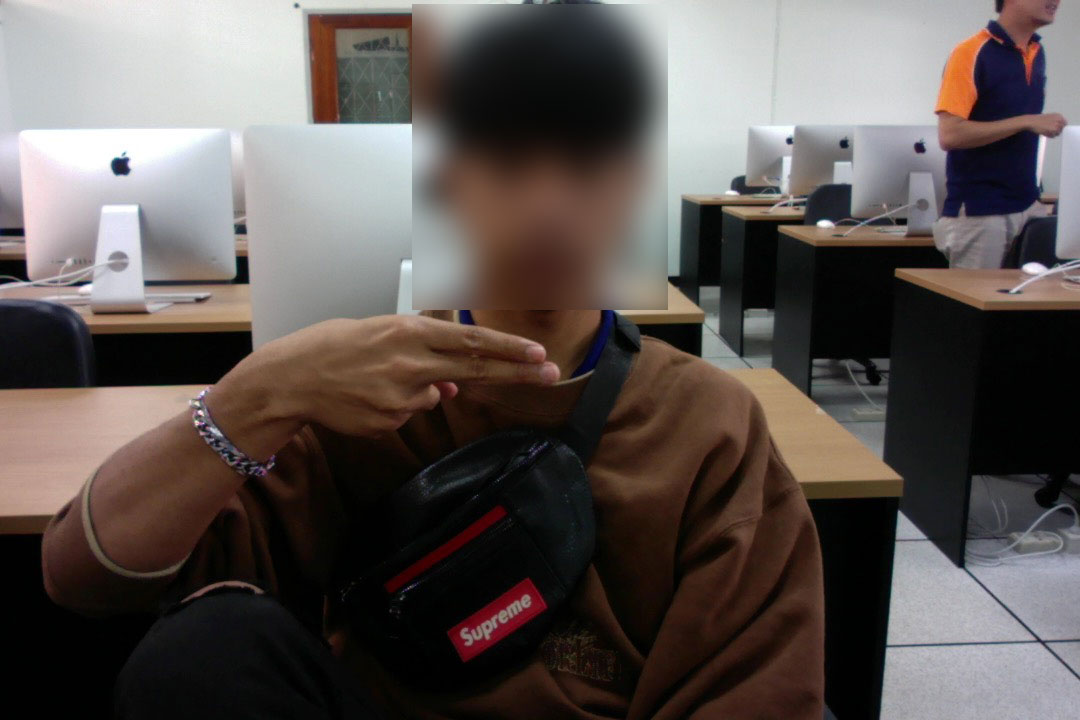hor: (252, 306, 573, 445)
